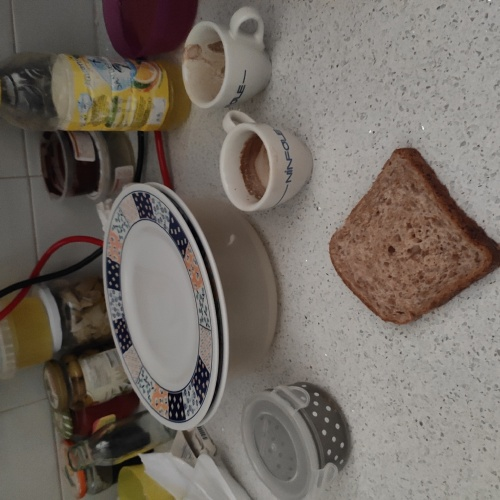pane: (327, 143, 494, 330)
